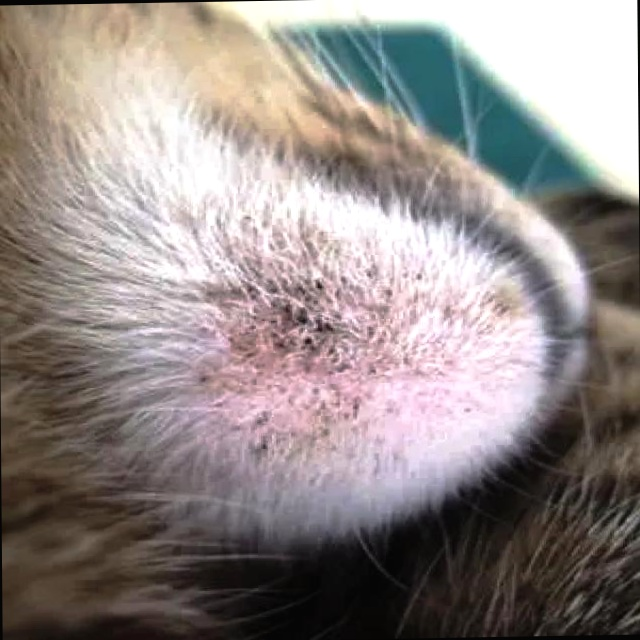acne: (180, 254, 432, 458)
